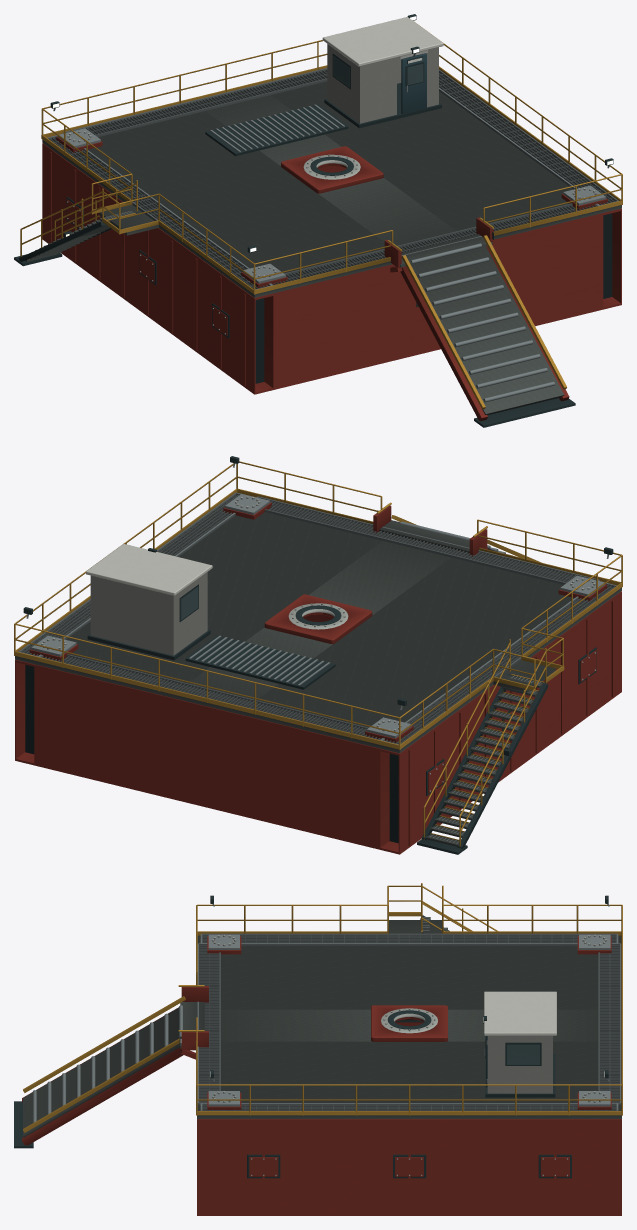
Rendered from offshore_drill_floor_lodH.glb.
3 renders of one model, top to bottom at view 1: azimuth 30°, elevation 25°; view 2: azimuth 150°, elevation 25°; view 3: azimuth 270°, elevation 25°, orthographic. The views are drawn at different scales.
Parts seen in each view (by area): view 1: deck_plate_deck, primary_box_girders_oxide, perimeter_grating_steel, catwalk_ramp_deck, handrails_yellow, doghouse_ivory, catwalk_ramp_steel, setback_dark, stairs_yellow, girder_stiffeners_and_diaphragms_oxide, rotary_table_oxide, catwalk_ramp_oxide (+12 smaller); view 2: deck_plate_deck, primary_box_girders_oxide, perimeter_grating_steel, handrails_yellow, doghouse_ivory, stairs_deck, stairs_yellow, setback_dark, stairs_dark, rotary_table_oxide, girder_stiffeners_and_diaphragms_oxide, setback_steel (+8 smaller); view 3: deck_plate_deck, primary_box_girders_oxide, perimeter_grating_steel, handrails_yellow, doghouse_ivory, catwalk_ramp_deck, girder_stiffeners_and_diaphragms_oxide, rotary_table_oxide, catwalk_ramp_oxide, catwalk_ramp_yellow, girder_access_covers_oxide, catwalk_ramp_steel (+13 smaller).
Part boxes in pixels (left/top/right/bottom): deck_plate_deck: left=42, top=71, right=621, bottom=297; primary_box_girders_oxide: left=42, top=143, right=621, bottom=394; perimeter_grating_steel: left=47, top=68, right=618, bottom=289; catwalk_ramp_deck: left=411, top=246, right=564, bottom=415; handrails_yellow: left=41, top=21, right=622, bottom=294; doghouse_ivory: left=322, top=17, right=443, bottom=123; catwalk_ramp_steel: left=410, top=243, right=554, bottom=402; setback_dark: left=205, top=104, right=348, bottom=156; stairs_yellow: left=20, top=173, right=158, bottom=259; girder_stiffeners_and_diaphragms_oxide: left=49, top=151, right=245, bottom=386; rotary_table_oxide: left=281, top=146, right=383, bottom=193; catwalk_ramp_oxide: left=400, top=246, right=569, bottom=420; deck_plate_deck: left=15, top=495, right=621, bottom=753; primary_box_girders_oxide: left=15, top=591, right=621, bottom=854; perimeter_grating_steel: left=18, top=492, right=616, bottom=744; handrails_yellow: left=14, top=461, right=622, bottom=749; doghouse_ivory: left=86, top=544, right=212, bottom=655; stairs_deck: left=425, top=660, right=555, bottom=846; stairs_yellow: left=423, top=628, right=564, bottom=848; setback_dark: left=185, top=635, right=335, bottom=689; stairs_dark: left=417, top=674, right=548, bottom=854; rotary_table_oxide: left=264, top=594, right=372, bottom=644; girder_stiffeners_and_diaphragms_oxide: left=408, top=600, right=614, bottom=845; setback_steel: left=189, top=635, right=330, bottom=685; deck_plate_deck: left=197, top=935, right=621, bottom=1118; primary_box_girders_oxide: left=197, top=1022, right=621, bottom=1215; perimeter_grating_steel: left=197, top=933, right=621, bottom=1110; handrails_yellow: left=196, top=904, right=622, bottom=1115; doghouse_ivory: left=484, top=991, right=556, bottom=1093; catwalk_ramp_deck: left=23, top=1007, right=180, bottom=1137; girder_stiffeners_and_diaphragms_oxide: left=213, top=1122, right=605, bottom=1213; rotary_table_oxide: left=371, top=1005, right=447, bottom=1041; catwalk_ramp_oxide: left=22, top=1007, right=183, bottom=1145; catwalk_ramp_yellow: left=23, top=996, right=185, bottom=1132; girder_access_covers_oxide: left=249, top=1157, right=569, bottom=1176; catwalk_ramp_steel: left=32, top=1005, right=182, bottom=1126.
Bounding box in the file's own units: 15.69 × 6.09 × 20.05.
11 materials, 11 textured.
